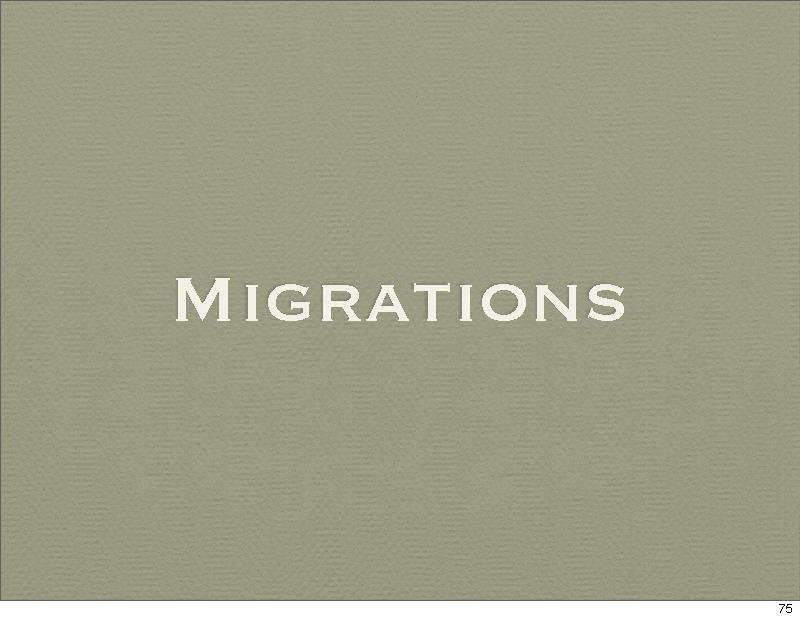paragraph: (171, 272, 640, 341)
